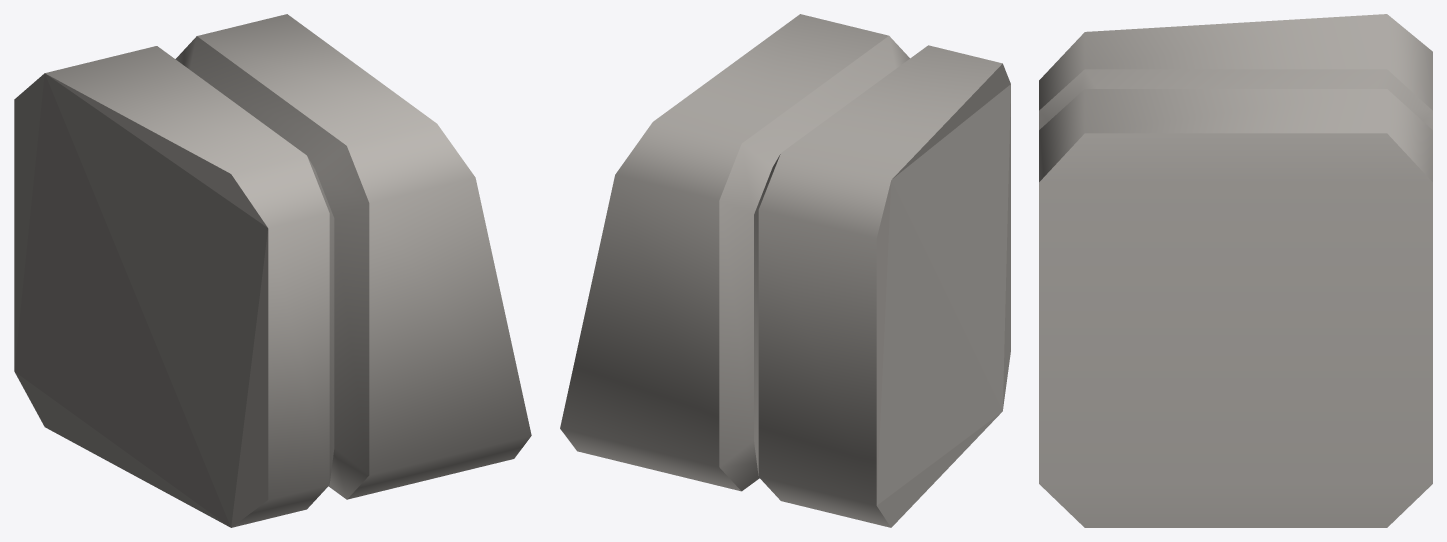
The model's file is Broken Pillar 01.FBX.
3 renders of one model, left to right at view 1: azimuth 30°, elevation 25°; view 2: azimuth 150°, elevation 25°; view 3: azimuth 270°, elevation 25°, orthographic. The views are drawn at different scales.
Parts seen in each view (by area): view 1: Broken Pillar 01; view 2: Broken Pillar 01; view 3: Broken Pillar 01.
Part boxes in pixels (bbox=[...]): Broken Pillar 01: bbox=[14, 14, 531, 527]; Broken Pillar 01: bbox=[560, 14, 1010, 527]; Broken Pillar 01: bbox=[1039, 14, 1432, 527].
Bounding box in the file's own units: 75.75 × 78.27 × 78.27.
Materials: 1 (1 with a texture image).
